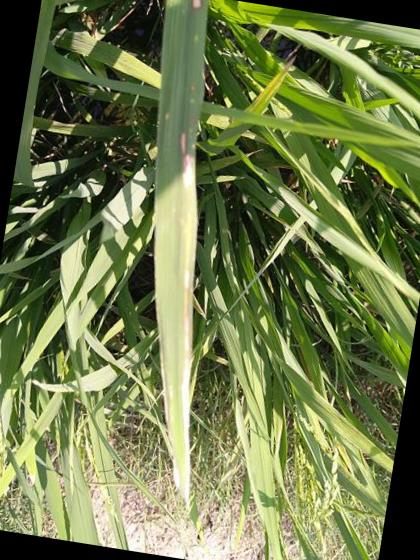Leaf Streak: (183, 269, 191, 500), (180, 130, 190, 187), (190, 0, 203, 13), (166, 110, 172, 124)
